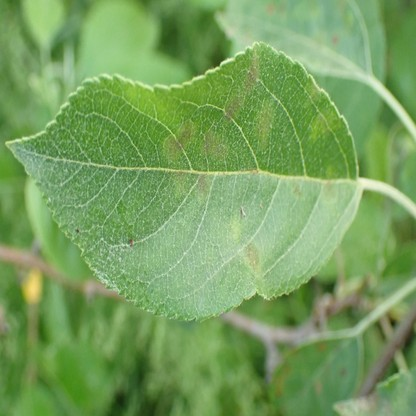powdery_mildew: (97, 241, 131, 286), (7, 142, 40, 171)
scab: (224, 50, 260, 121), (309, 109, 340, 144), (164, 125, 192, 163), (201, 130, 228, 165), (254, 102, 273, 148), (275, 364, 291, 397), (244, 241, 259, 272), (305, 82, 320, 107), (174, 169, 186, 196), (197, 175, 209, 201), (225, 218, 238, 239), (323, 181, 336, 201), (291, 180, 303, 199)
